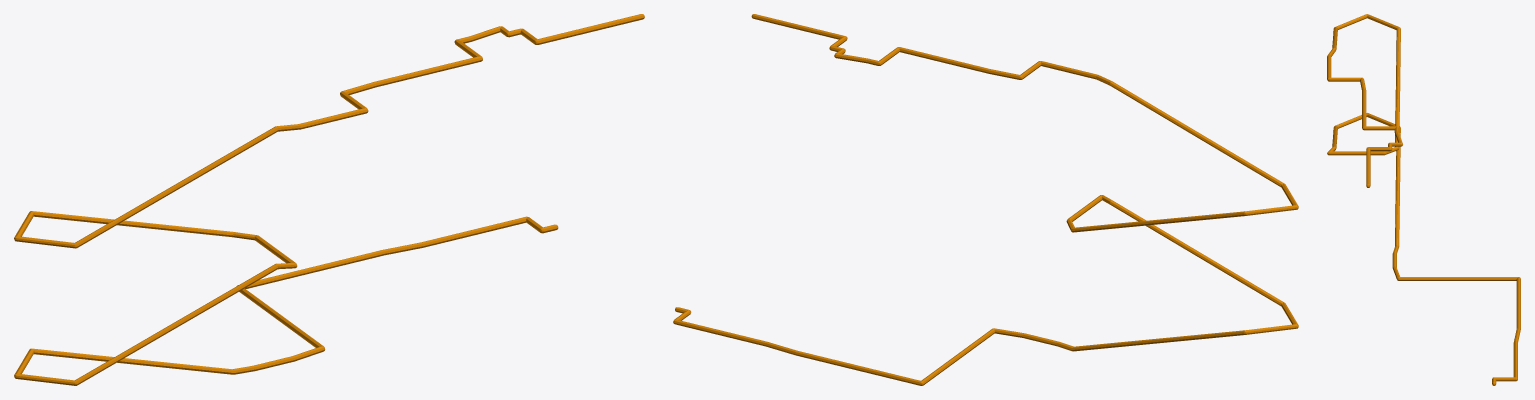
3 views of the same model, side by side, from view 1: azimuth 30°, elevation 25°; view 2: azimuth 150°, elevation 25°; view 3: azimuth 270°, elevation 25° (orthographic). The views are drawn at different scales.
Size of the model in its own units: 2406 by 1020 by 889.
